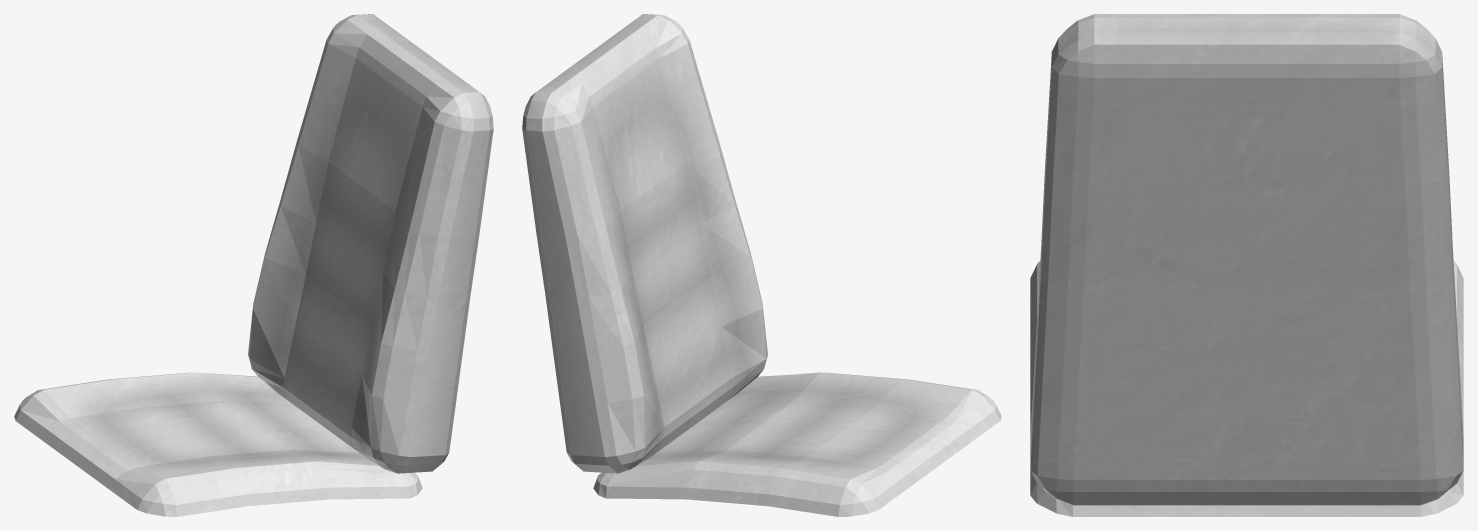
Rendered from seat.obj.
3 renders of one model, left to right at view 1: azimuth 30°, elevation 25°; view 2: azimuth 150°, elevation 25°; view 3: azimuth 270°, elevation 25°, orthographic. The views are drawn at different scales.
Parts seen in each view (by area): view 1: Seat.004_Seat.mesh.004; view 2: Seat.004_Seat.mesh.004; view 3: Seat.004_Seat.mesh.004.
Boxes of the visible parts, x1,y1,x2,y2 form: Seat.004_Seat.mesh.004: [14, 14, 493, 516]; Seat.004_Seat.mesh.004: [522, 14, 1001, 516]; Seat.004_Seat.mesh.004: [1030, 14, 1463, 516].
Size of the model in its own units: 0.5653 by 0.5651 by 0.4149.
Materials: 1 (1 with a texture image).
